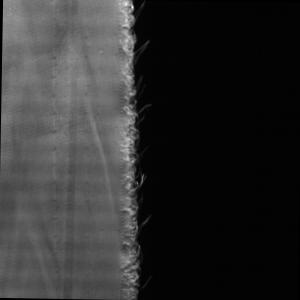Damage: (108, 1, 159, 300)
Wrinkle: (1, 1, 88, 299)
